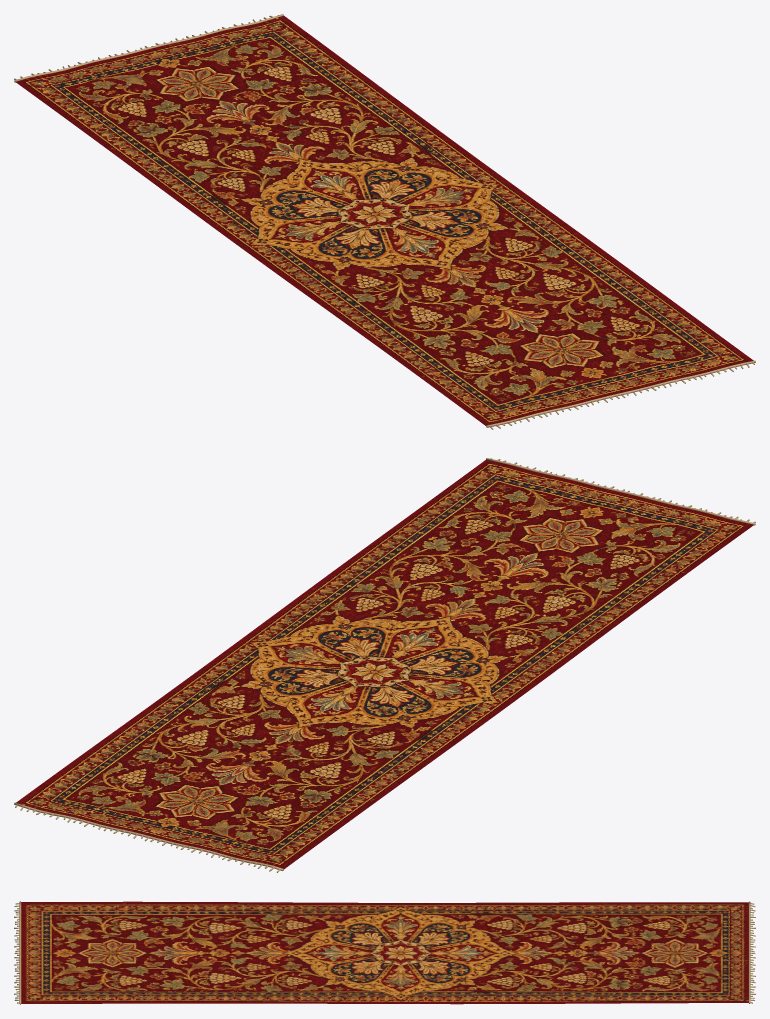
File: skete-royal-runner.glb
3 renders of one model, top to bottom at view 1: azimuth 30°, elevation 25°; view 2: azimuth 150°, elevation 25°; view 3: azimuth 270°, elevation 25°, orthographic. The views are drawn at different scales.
Visible parts, largest first — view 1: woven carpet, hand knotted tassels; view 2: woven carpet, hand knotted tassels; view 3: woven carpet, hand knotted tassels.
Boxes of the visible parts, x1,y1,x2,y2 form: woven carpet: (16,16,753,425); hand knotted tassels: (14,14,755,429); woven carpet: (16,460,753,869); hand knotted tassels: (14,458,755,872); woven carpet: (21,901,748,1004); hand knotted tassels: (14,901,755,1004).
Bounding box in the file's own units: 4.48 × 0.0537 × 13.87.
Materials: 2 (1 with a texture image).
